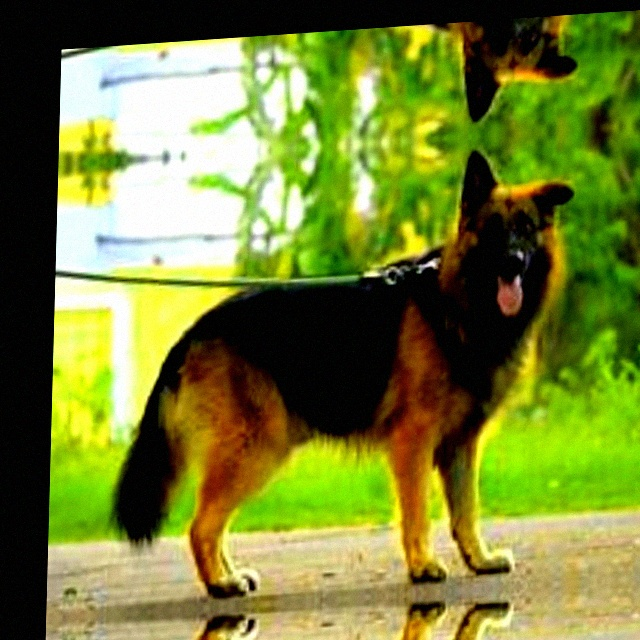dog: (143, 164, 582, 613), (157, 14, 587, 121), (140, 583, 571, 640)
